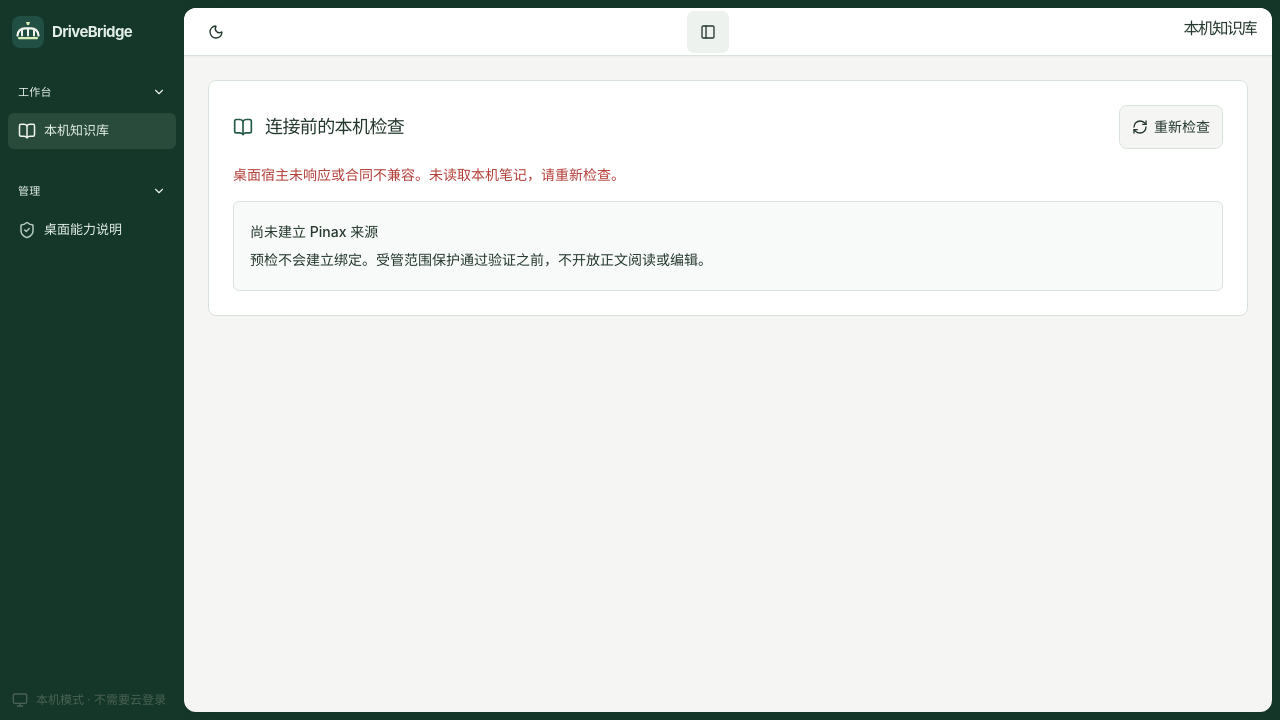
shows bounded safe failure and supports retry without displaying private exception messages
Expected: the message "桌面宿主未响应或合同不兼容。未读取本机笔记，请重新检查。" is shown, [233, 166, 625, 183]
Click the button "重新检查".
click(1171, 127)  # box [1119, 105, 1223, 149]
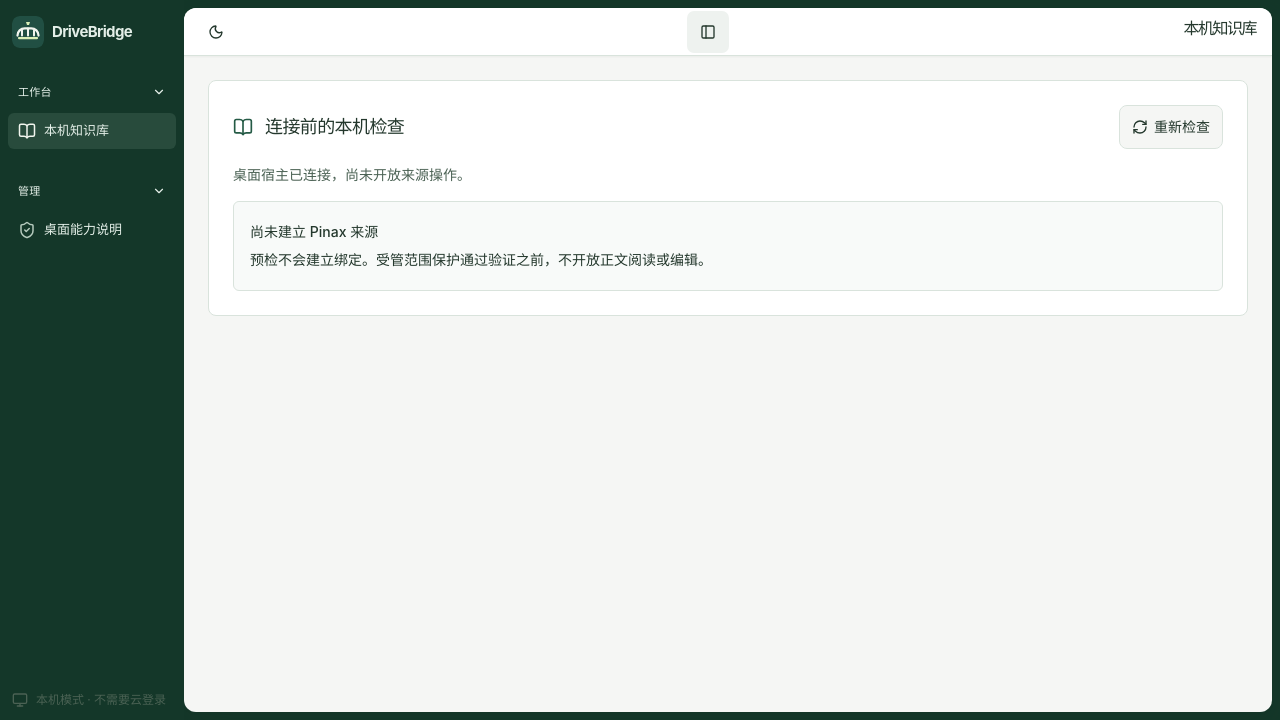
Expected: the text "桌面宿主已连接，尚未开放来源操作。" is shown, [233, 166, 471, 183]
